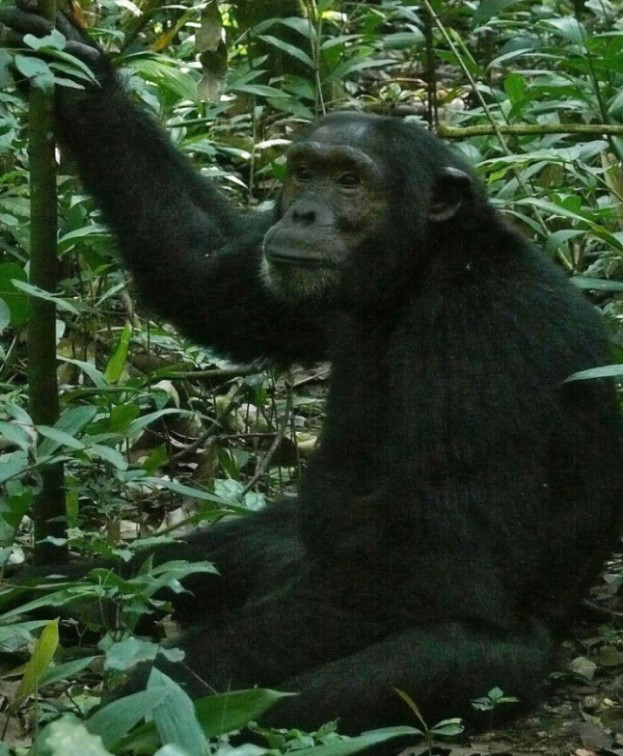Chimpanzee: (199, 112, 570, 703)
